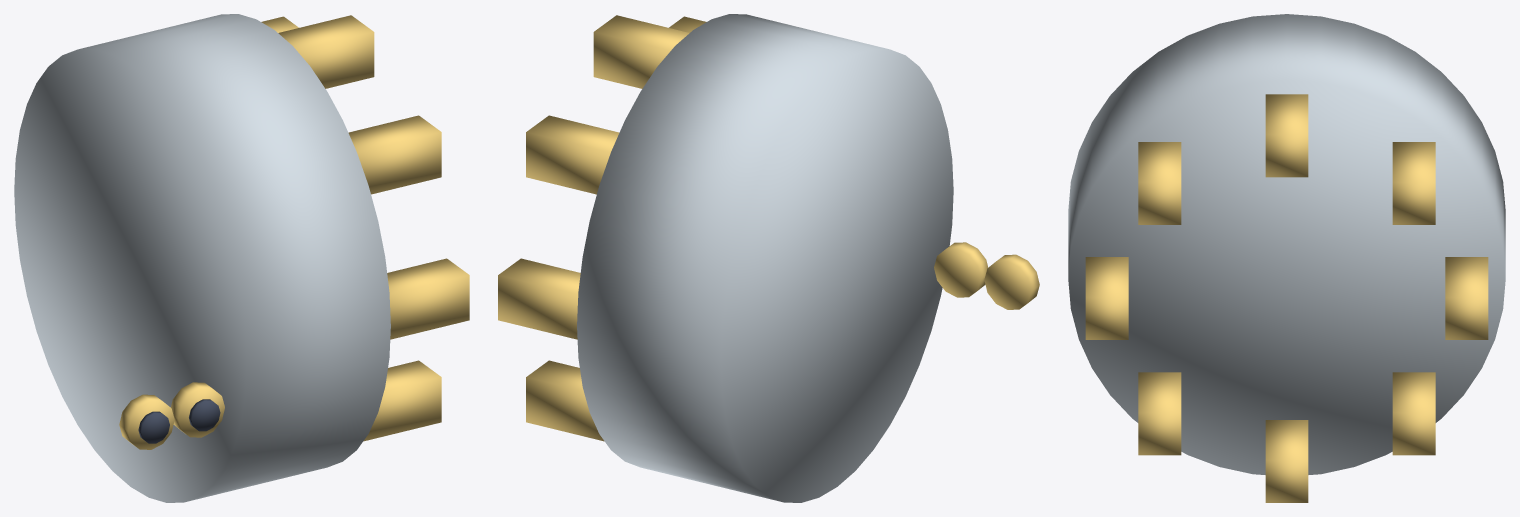
File: 39_L86_AutomaticEndEffectorToolChanger.glb
3 views of the same model, side by side, from view 1: azimuth 30°, elevation 25°; view 2: azimuth 150°, elevation 25°; view 3: azimuth 270°, elevation 25° (orthographic). The views are drawn at different scales.
Visible parts, largest first — view 1: L86_AutomaticEndEffectorToolC_Part_0000, L86_AutomaticEndEffectorToolC_Part_0001, L86_AutomaticEndEffectorToolC_Part_0002, L86_AutomaticEndEffectorToolC_Part_0004, L86_AutomaticEndEffectorToolC_Part_0003, L86_AutomaticEndEffectorToolC_Part_0005; view 2: L86_AutomaticEndEffectorToolC_Part_0000, L86_AutomaticEndEffectorToolC_Part_0001, L86_AutomaticEndEffectorToolC_Part_0002, L86_AutomaticEndEffectorToolC_Part_0004; view 3: L86_AutomaticEndEffectorToolC_Part_0000, L86_AutomaticEndEffectorToolC_Part_0001.
Part boxes in pixels (bbox=[...]): L86_AutomaticEndEffectorToolC_Part_0000: bbox=[14, 14, 390, 502]; L86_AutomaticEndEffectorToolC_Part_0001: bbox=[261, 15, 469, 441]; L86_AutomaticEndEffectorToolC_Part_0002: bbox=[119, 394, 174, 449]; L86_AutomaticEndEffectorToolC_Part_0004: bbox=[171, 382, 224, 437]; L86_AutomaticEndEffectorToolC_Part_0003: bbox=[138, 411, 169, 443]; L86_AutomaticEndEffectorToolC_Part_0005: bbox=[189, 399, 220, 431]; L86_AutomaticEndEffectorToolC_Part_0000: bbox=[577, 14, 953, 502]; L86_AutomaticEndEffectorToolC_Part_0001: bbox=[498, 15, 706, 441]; L86_AutomaticEndEffectorToolC_Part_0002: bbox=[984, 254, 1039, 309]; L86_AutomaticEndEffectorToolC_Part_0004: bbox=[934, 242, 987, 297]; L86_AutomaticEndEffectorToolC_Part_0000: bbox=[1068, 14, 1505, 474]; L86_AutomaticEndEffectorToolC_Part_0001: bbox=[1085, 94, 1488, 502].
Bounding box in the file's own units: 0.93 × 1.12 × 1.12.
